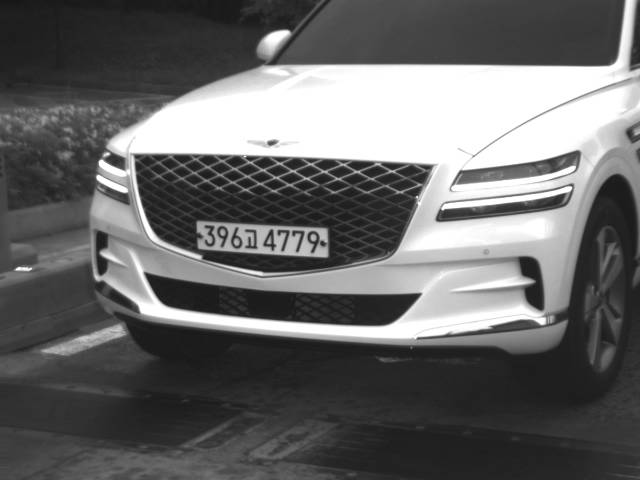car: (91, 1, 640, 398)
plate: (195, 220, 331, 259)
